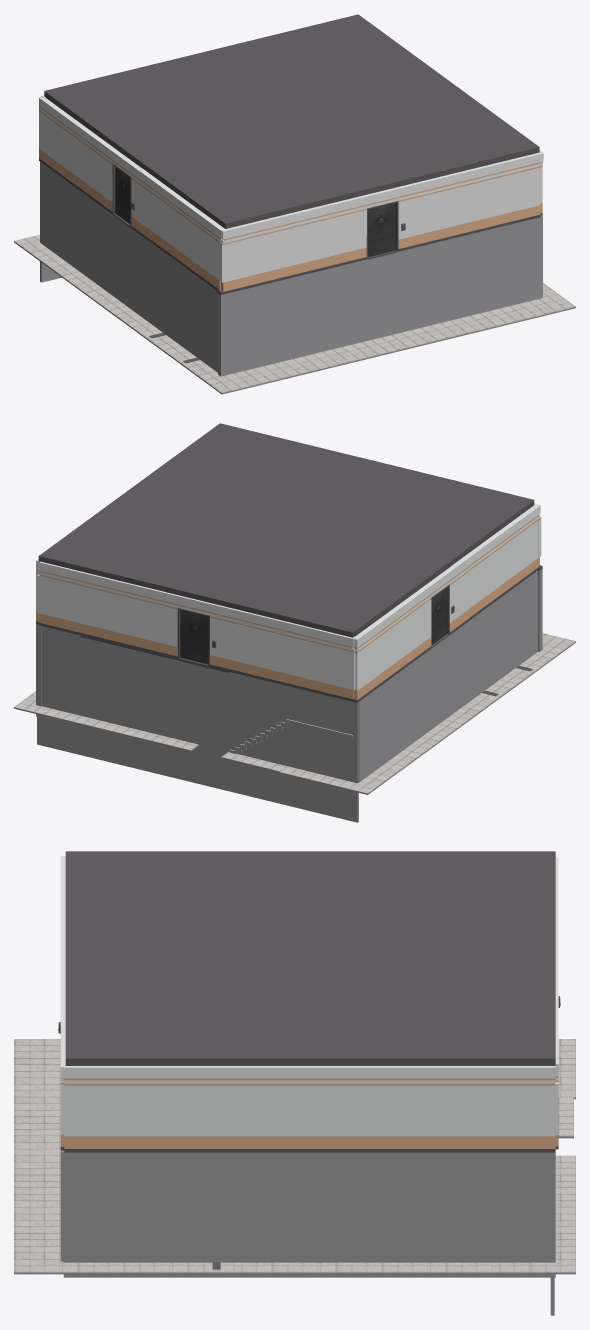
File: scp_server_room.glb
3 views of the same model, one above another, from view 1: azimuth 30°, elevation 25°; view 2: azimuth 150°, elevation 25°; view 3: azimuth 270°, elevation 25° (orthographic). The views are drawn at different scales.
Parts seen in each view (by area): view 1: Object_12, Object_10, Object_6, Object_4, Object_9, Object_3, Object_13, Object_5; view 2: Object_12, Object_10, Object_6, Object_4, Object_9, Object_3, Object_13, Object_5; view 3: Object_12, Object_10, Object_6, Object_4, Object_9, Object_13.
Part boxes in pixels (left/top/right/bottom): Object_12: left=44, top=14, right=539, bottom=259; Object_10: left=14, top=162, right=575, bottom=394; Object_6: left=39, top=95, right=543, bottom=282; Object_4: left=14, top=234, right=575, bottom=392; Object_9: left=39, top=106, right=542, bottom=291; Object_3: left=115, top=167, right=396, bottom=257; Object_13: left=39, top=158, right=542, bottom=363; Object_5: left=112, top=164, right=398, bottom=258; Object_12: left=38, top=423, right=534, bottom=666; Object_10: left=14, top=569, right=575, bottom=822; Object_6: left=36, top=503, right=541, bottom=690; Object_4: left=14, top=633, right=575, bottom=793; Object_9: left=36, top=515, right=541, bottom=699; Object_3: left=180, top=588, right=447, bottom=664; Object_13: left=36, top=565, right=542, bottom=702; Object_5: left=177, top=584, right=449, bottom=666; Object_12: left=58, top=851, right=560, bottom=1065; Object_10: left=14, top=1058, right=575, bottom=1315; Object_6: left=60, top=855, right=558, bottom=1136; Object_4: left=14, top=1039, right=575, bottom=1272; Object_9: left=60, top=1075, right=558, bottom=1148; Object_13: left=60, top=1146, right=558, bottom=1269.
Size of the model in its own units: 55.2 by 28.21 by 56.2.
12 materials, 4 textured.
